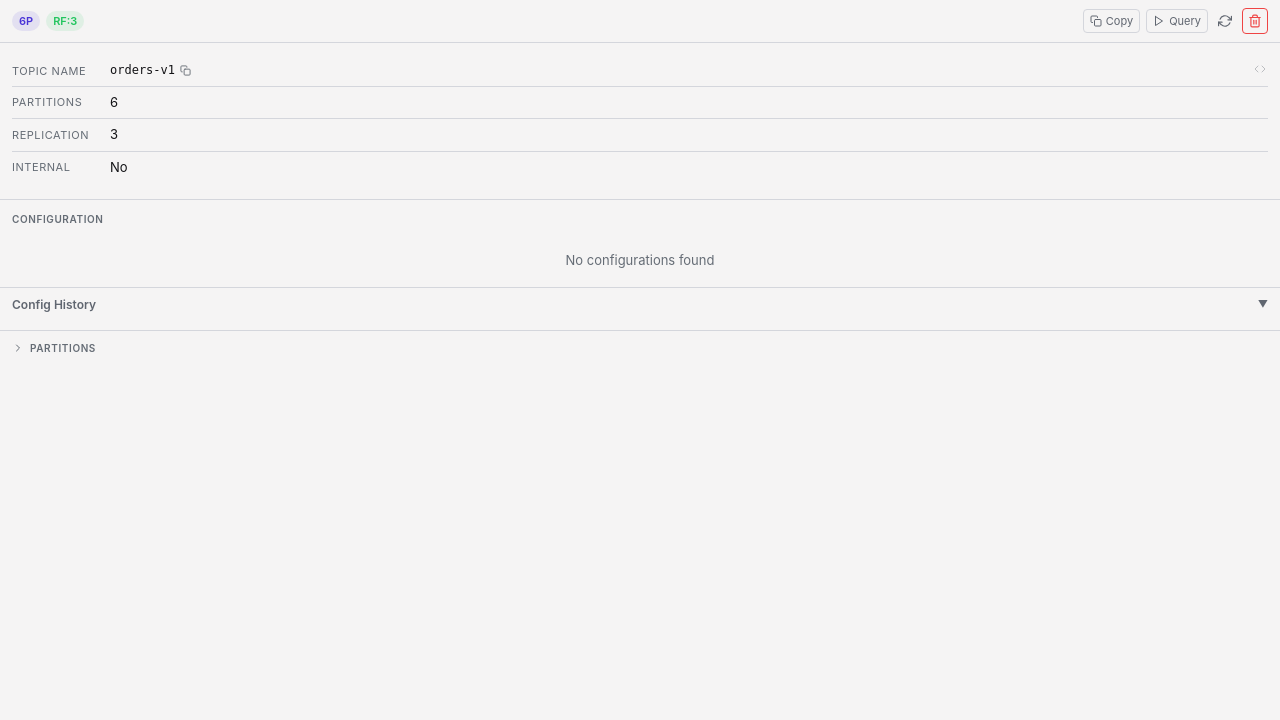
Test: [@topic-detail] delete overlay › pressing Escape closes the delete overlay
Click the button named "delete topic" at [1255, 21], box [1242,8,1268,34]
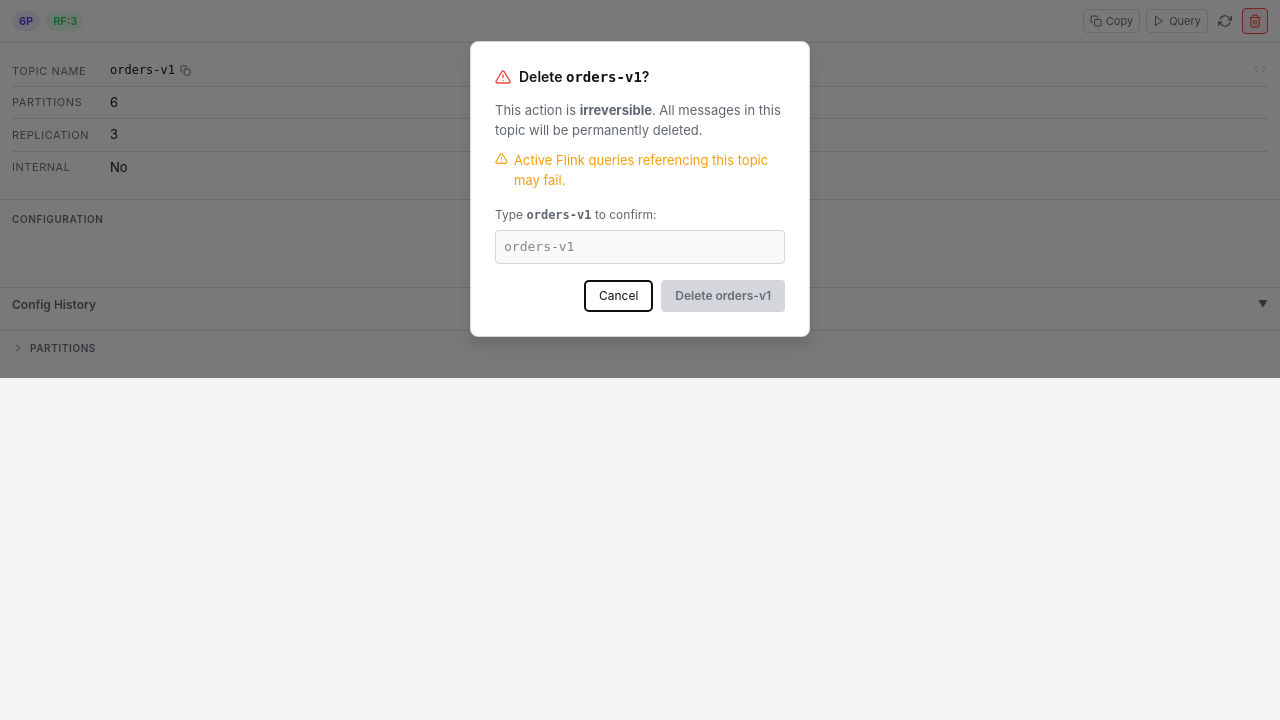
Expected: the dialog is shown, [0,0,1279,378]
Press Escape
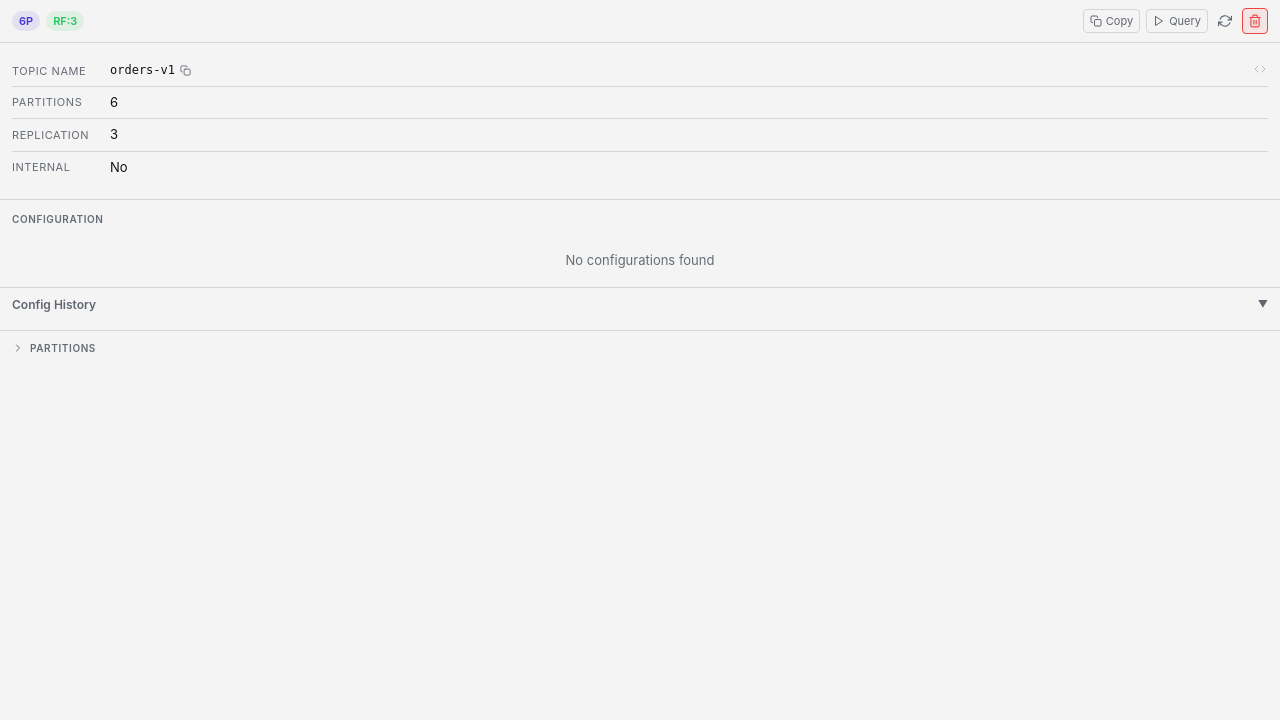
Expected: the dialog is gone
